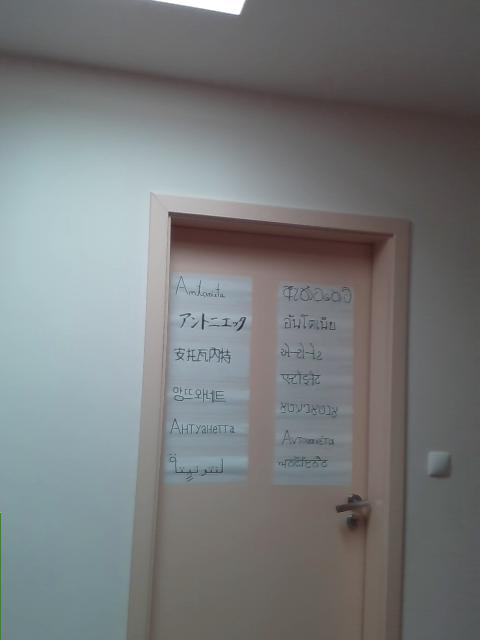closed_door: (126, 191, 410, 639)
